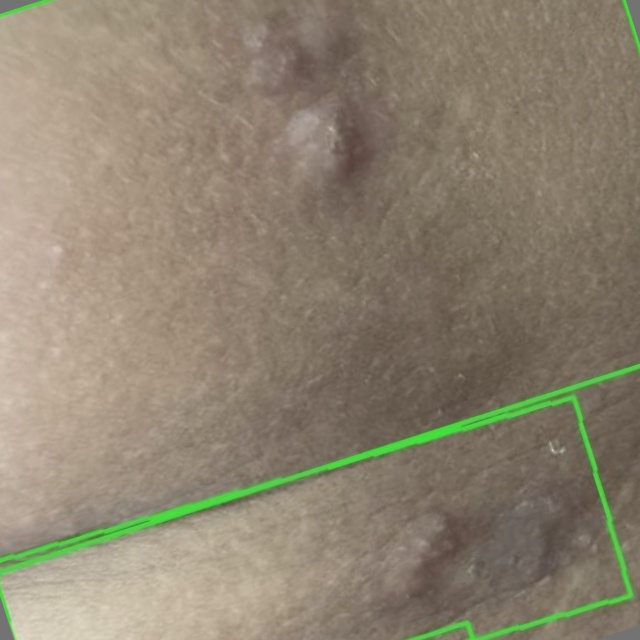Scabies: (0, 0, 639, 571), (0, 397, 630, 639)
